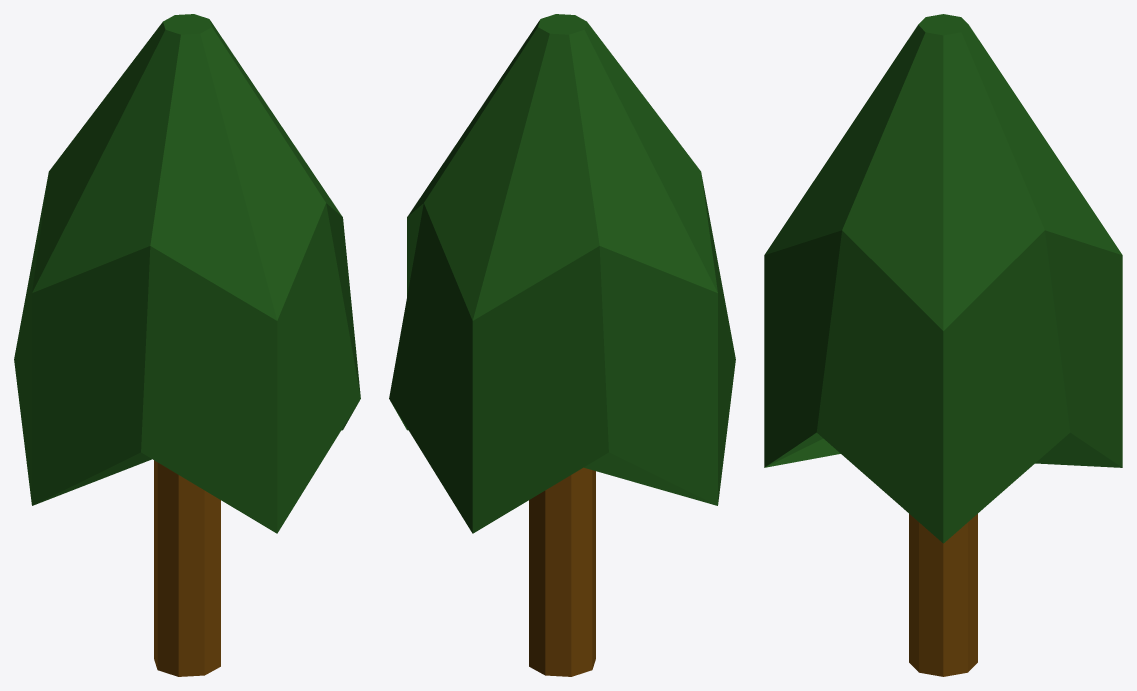
File: Medieval.fbx_Nature.fbx
3 views of the same model, side by side, from view 1: azimuth 30°, elevation 25°; view 2: azimuth 150°, elevation 25°; view 3: azimuth 270°, elevation 25° (orthographic).
Parts seen in each view (by area): view 1: Tree; view 2: Tree; view 3: Tree.
Part boxes in pixels (x1=…): Tree: x1=14, y1=14, x2=360, y2=676; Tree: x1=389, y1=14, x2=735, y2=676; Tree: x1=764, y1=14, x2=1122, y2=676.
Bounding box in the file's own units: 419 × 419 × 822.
